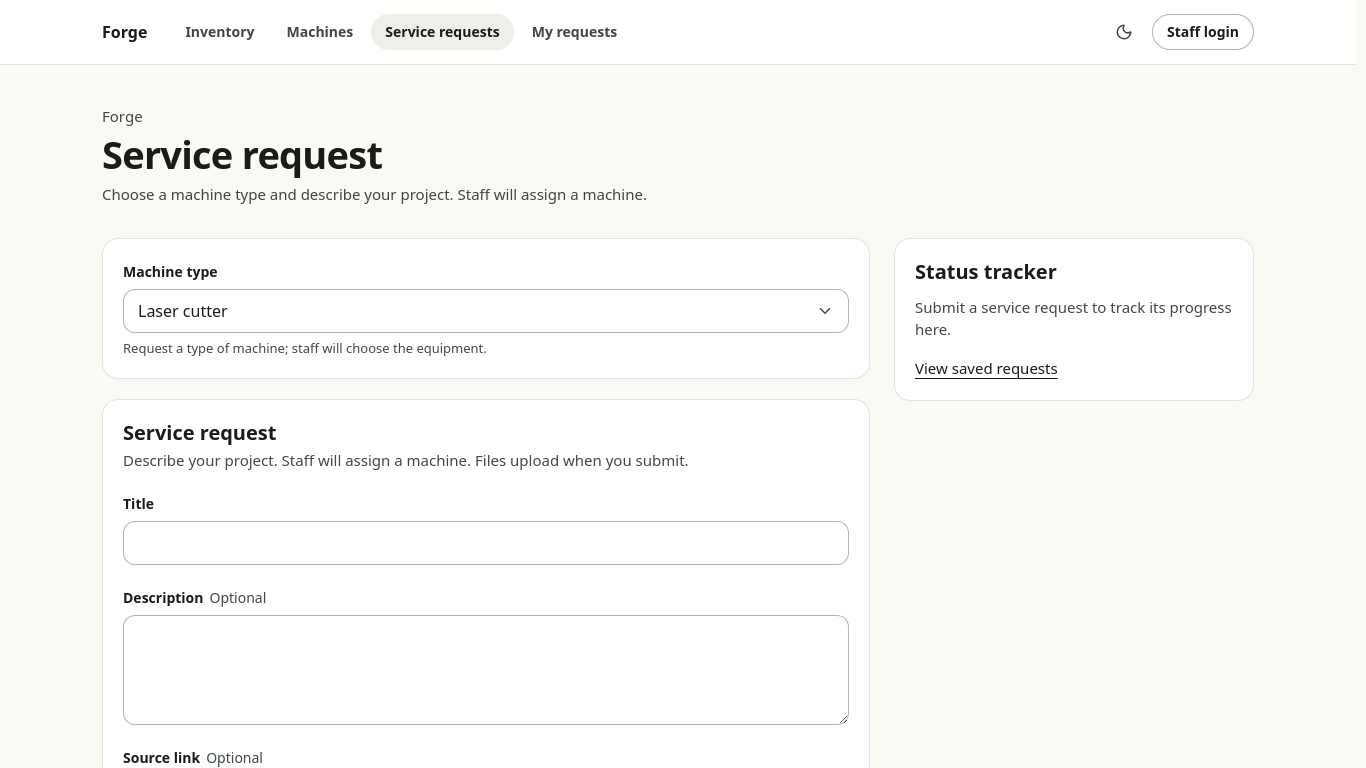
public machine service page › filters cached printer types when printing is disabled
Step 1. Click the dropdown named "Machine type" → (183, 311), box [123,289,849,333]
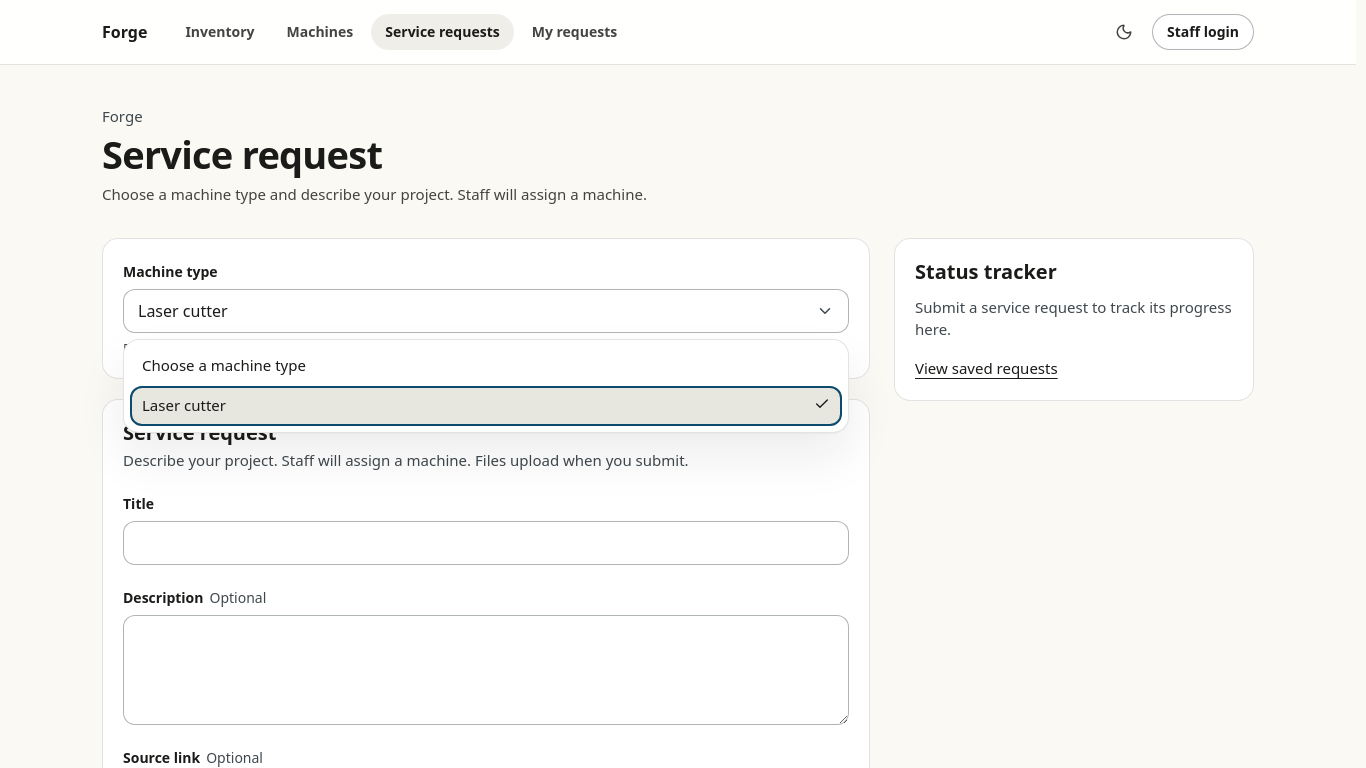
Result: the option "Laser cutter" is shown at [130,386,842,426]
